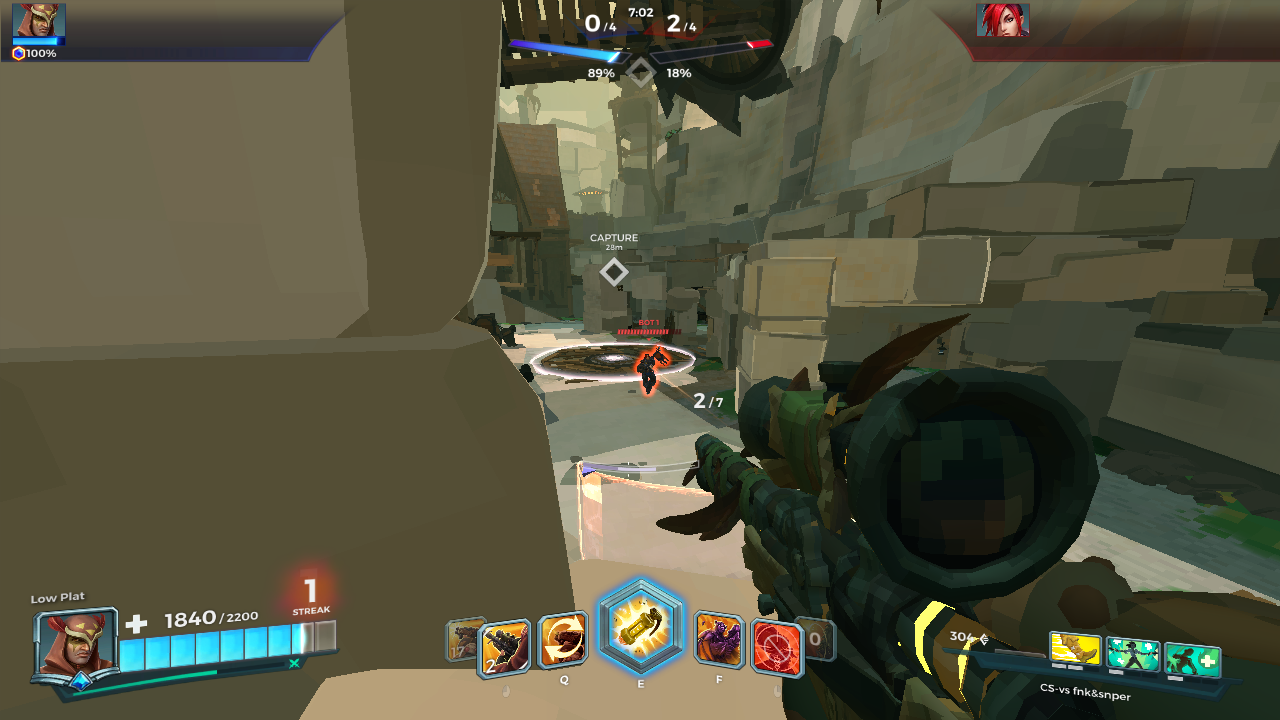model: (638, 346, 656, 398)
